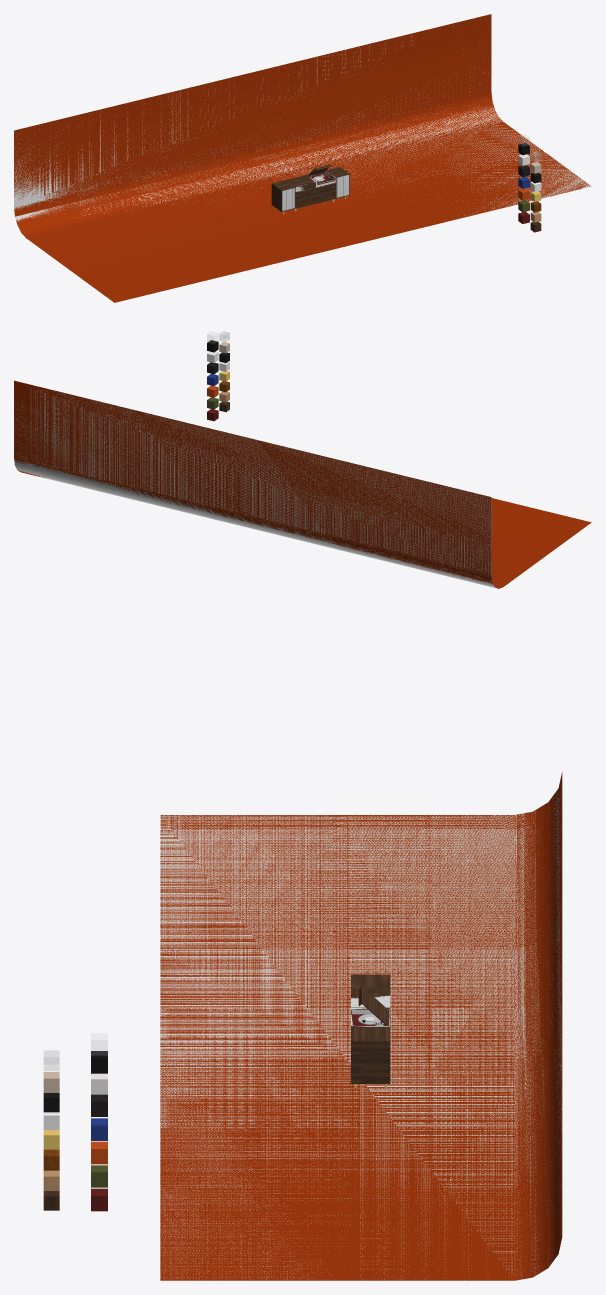
The model's file is 3DTOWEBB_FINAL_TEST_UPDATE.glb.
3 renders of one model, top to bottom at view 1: azimuth 30°, elevation 25°; view 2: azimuth 150°, elevation 25°; view 3: azimuth 270°, elevation 25°, orthographic. The views are drawn at different scales.
Visible parts, largest first — view 1: Scene_Orange, Scene_White, Console_Large, Cabinet_Smooth, Speaker, NS_Textured, Cabinet_Textured; view 2: Scene_Orange, Scene_White; view 3: Scene_Orange, Scene_White, Console_Large.
Boxes of the visible parts, left/top/right/bottom form: Scene_Orange: left=14, top=14, right=590, bottom=302; Scene_White: left=14, top=14, right=591, bottom=301; Console_Large: left=271, top=167, right=349, bottom=211; Cabinet_Smooth: left=295, top=183, right=335, bottom=208; Speaker: left=282, top=175, right=348, bottom=210; NS_Textured: left=283, top=175, right=349, bottom=210; Cabinet_Textured: left=296, top=183, right=333, bottom=207; Scene_Orange: left=14, top=380, right=591, bottom=588; Scene_White: left=14, top=387, right=589, bottom=588; Scene_Orange: left=160, top=772, right=562, bottom=1280; Scene_White: left=160, top=785, right=561, bottom=1280; Console_Large: left=351, top=974, right=390, bottom=1083.
Size of the model in its own units: 13.98 by 2.88 by 6.57.
34 materials, 8 textured.
